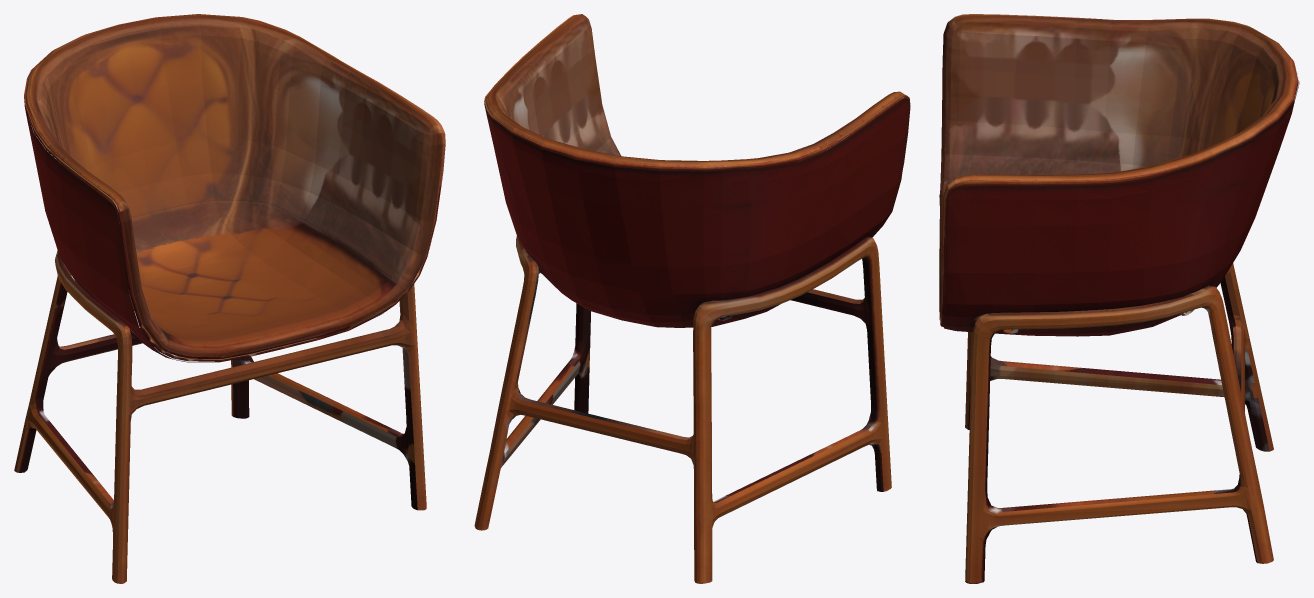
The model's file is edited_mesh.glb.
The picture shows the model from 3 angles, left to right: view 1: azimuth 30°, elevation 25°; view 2: azimuth 150°, elevation 25°; view 3: azimuth 270°, elevation 25°; orthographic projection. The views are drawn at different scales.
Parts seen in each view (by area): view 1: normalized_model.obj; view 2: normalized_model.obj; view 3: normalized_model.obj.
Boxes of the visible parts, x1,y1,x2,y2 form: normalized_model.obj: (14, 14, 445, 583); normalized_model.obj: (474, 14, 910, 583); normalized_model.obj: (939, 14, 1299, 583).
Size of the model in its own units: 1.18 by 1.41 by 1.07.
Materials: 1 (1 with a texture image).
